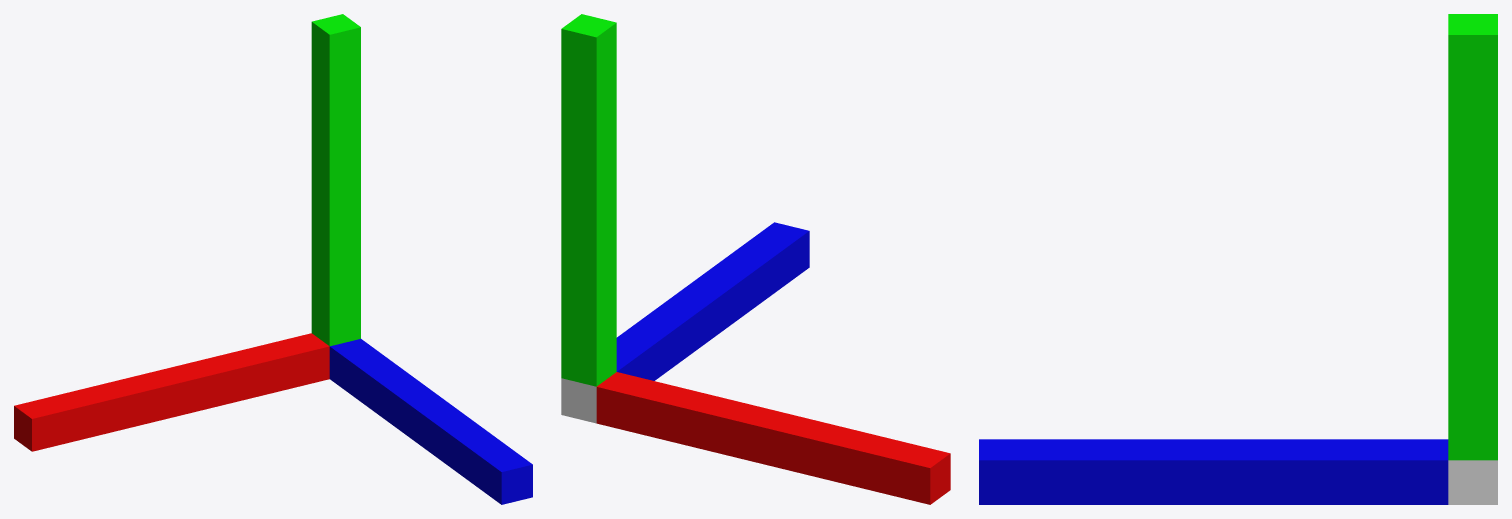
File: axis.obj
The picture shows the model from 3 angles, left to right: view 1: azimuth 30°, elevation 25°; view 2: azimuth 150°, elevation 25°; view 3: azimuth 270°, elevation 25°; orthographic projection. The views are drawn at different scales.
Parts seen in each view (by area): view 1: Cube; view 2: Cube; view 3: Cube.
Boxes of the visible parts, x1,y1,x2,y2 form: Cube: (14, 14, 532, 504); Cube: (561, 14, 950, 504); Cube: (979, 14, 1497, 504).
Bounding box in the file's own units: 2.1 × 2.1 × 2.1.
Materials: 1 (1 with a texture image).
